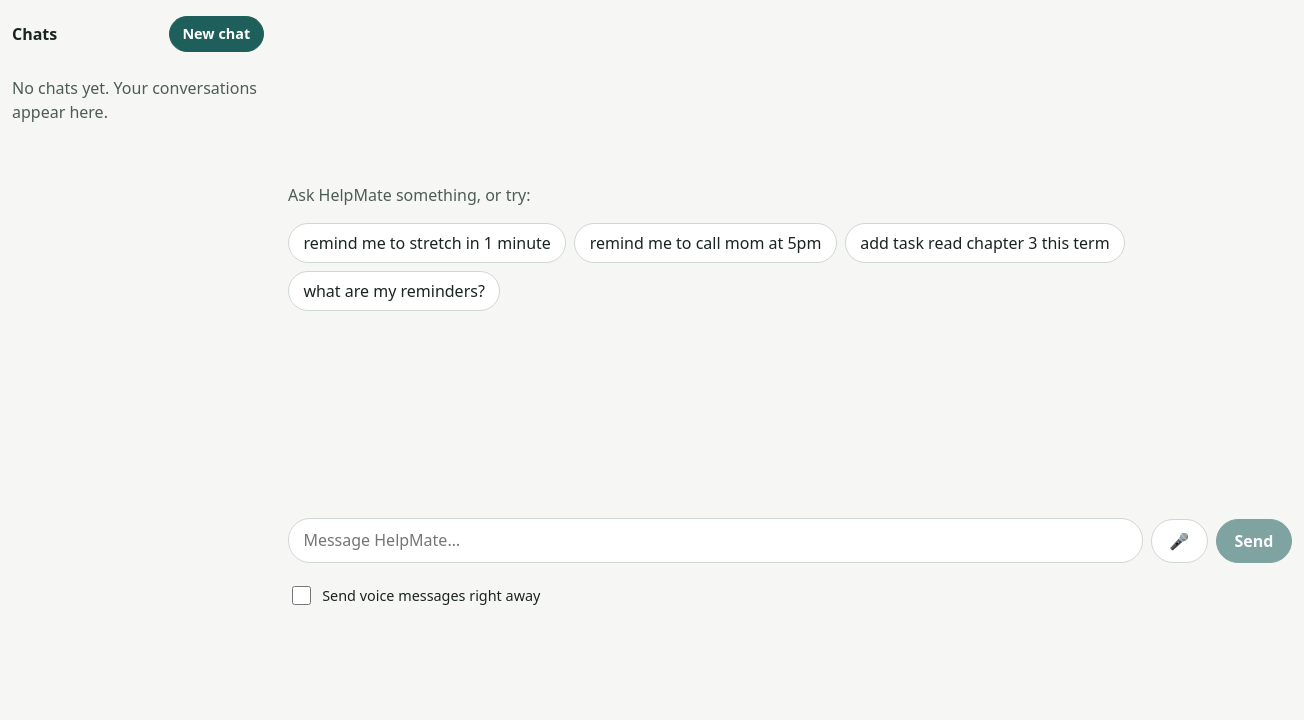
Test: the conversation outlives the chat page › New chat clears the conversation and the next message opens a new session
Click the button "what are my reminders?" at [394, 291], box [288,271,500,311]
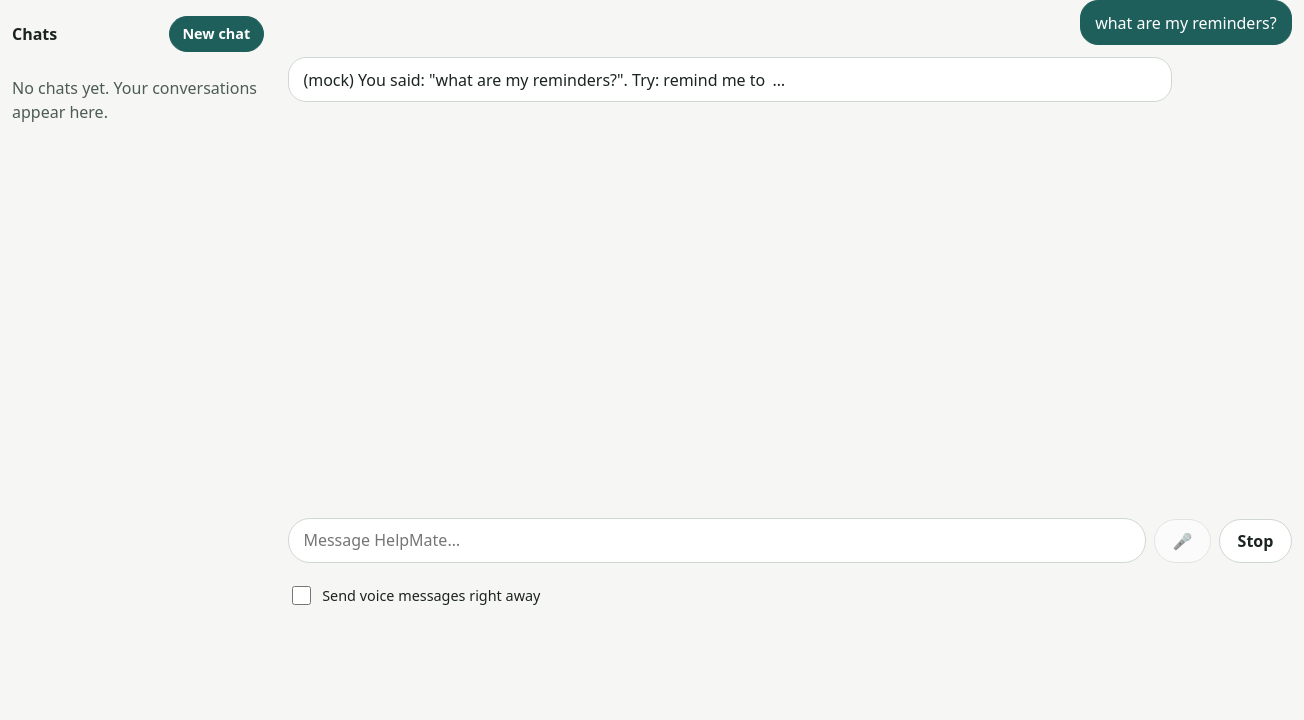
Expected: the text "(mock) You said: \"what are my reminders?\". Try: remind me to" is shown, [288,57,1172,102]
Click the button "New chat" at [216, 34], box [169,16,264,52]
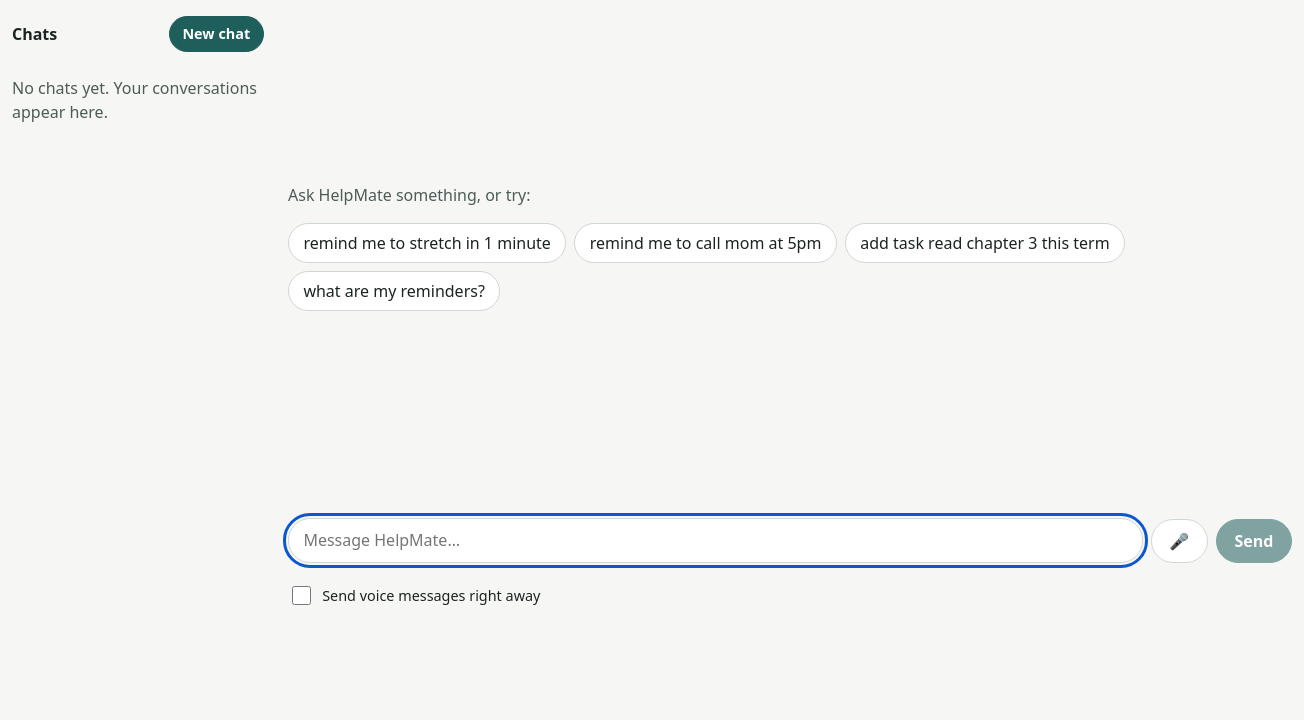
Expected: the text "(mock) You said" is gone
Type "hi" into the text box labelled "Message" at [715, 540], box [288,518,1143,563]
Then press Enter
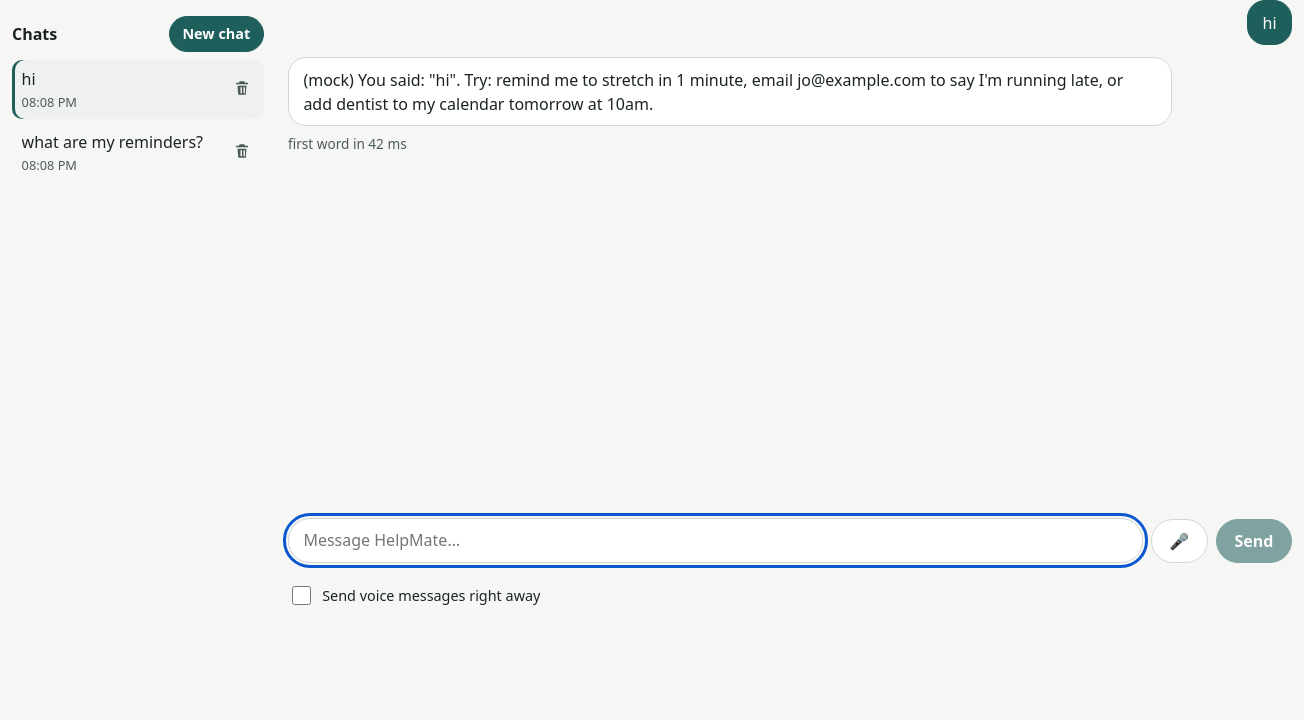
Expected: the text "(mock) You said: \"hi\"" is shown, [303,69,1128,115]
